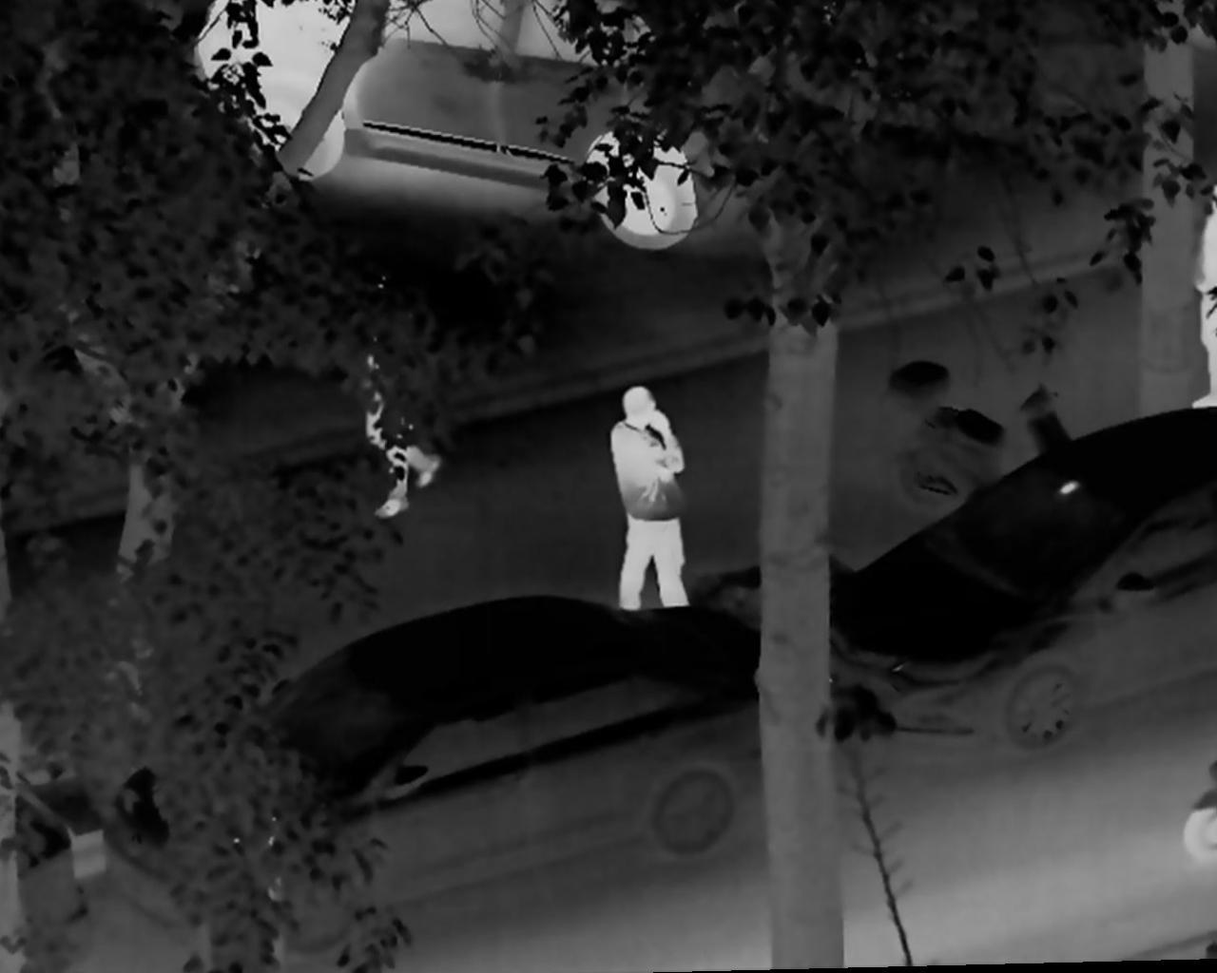person: (343, 285, 447, 525), (597, 383, 696, 610), (1188, 180, 1217, 414)
